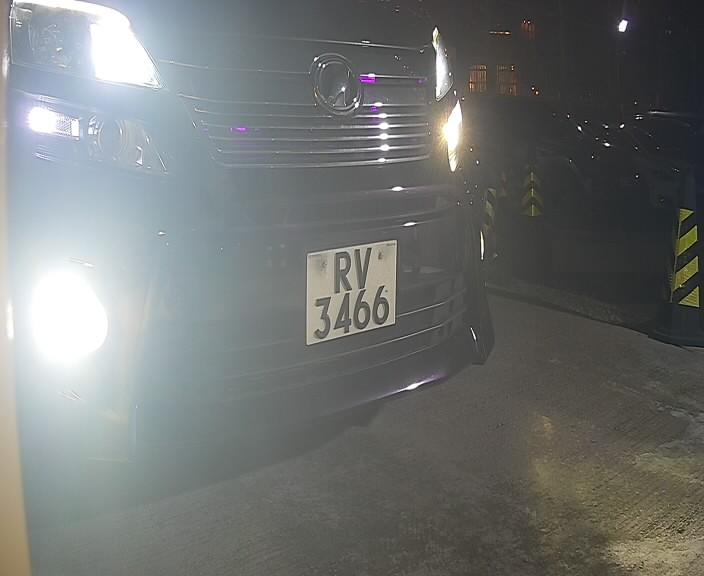License Plate: (293, 227, 403, 358)
